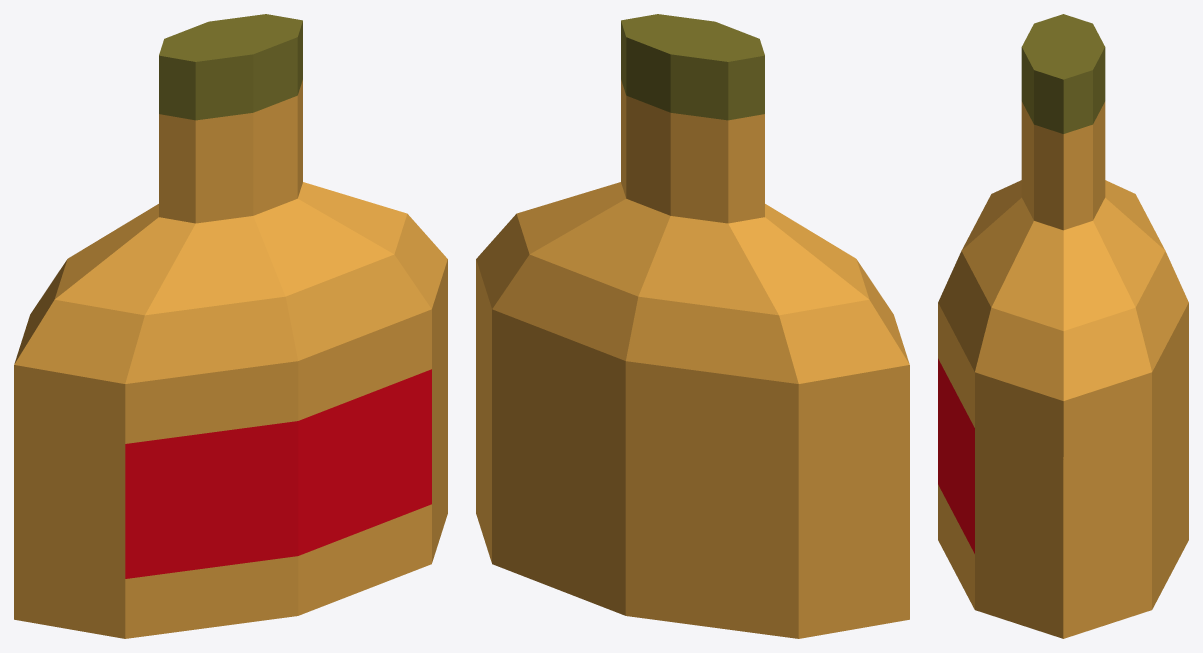
File: pandemonium_whiskey_bottle.fbx
3 views of the same model, side by side, from view 1: azimuth 30°, elevation 25°; view 2: azimuth 150°, elevation 25°; view 3: azimuth 270°, elevation 25° (orthographic). The views are drawn at different scales.
Visible parts, largest first — view 1: Cylinder.003; view 2: Cylinder.003; view 3: Cylinder.003.
Part boxes in pixels (x1,y1,x2,y2): Cylinder.003: [14, 14, 447, 638]; Cylinder.003: [476, 14, 909, 638]; Cylinder.003: [938, 14, 1188, 638].
Size of the model in its own units: 49.34 by 57.49 by 26.48.
